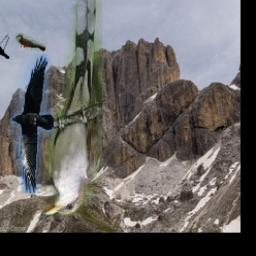Crow: (10, 55, 54, 194)
Cuckoo: (44, 0, 103, 216), (17, 33, 46, 51), (0, 35, 9, 59)
